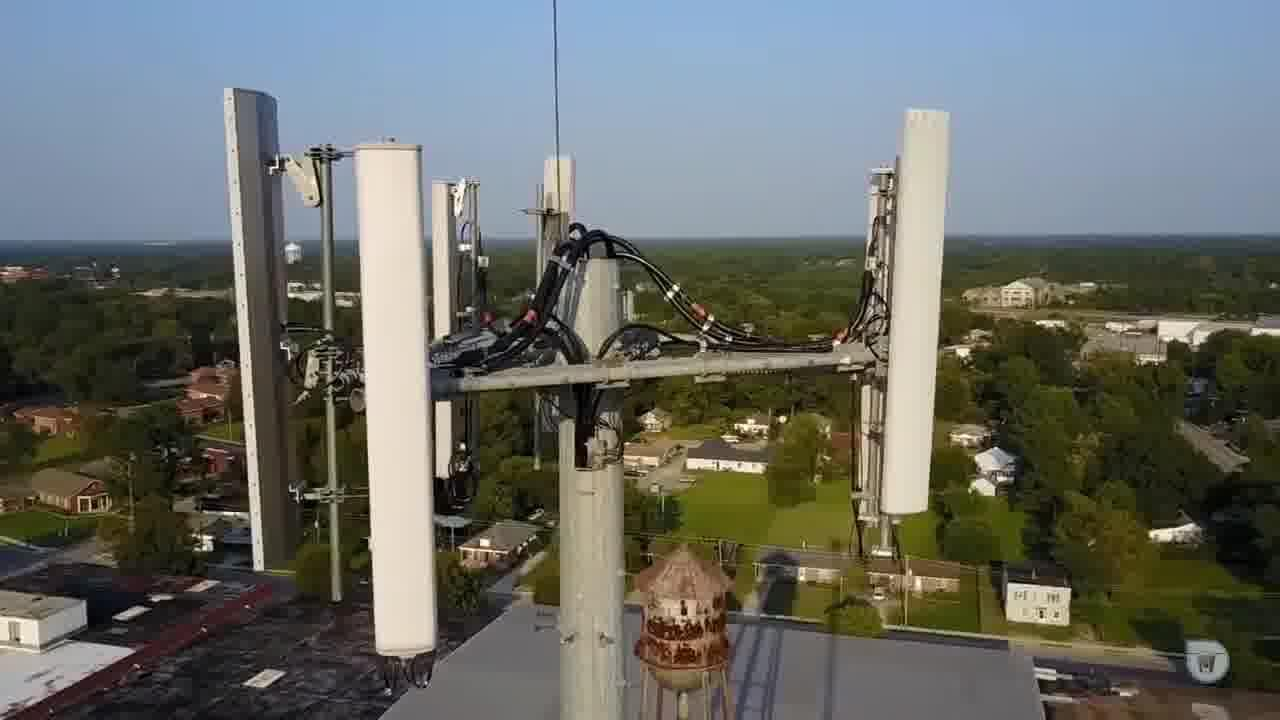antenna: (295, 152, 415, 661), (175, 101, 287, 578), (854, 103, 952, 548), (428, 177, 477, 483), (532, 147, 583, 248)
